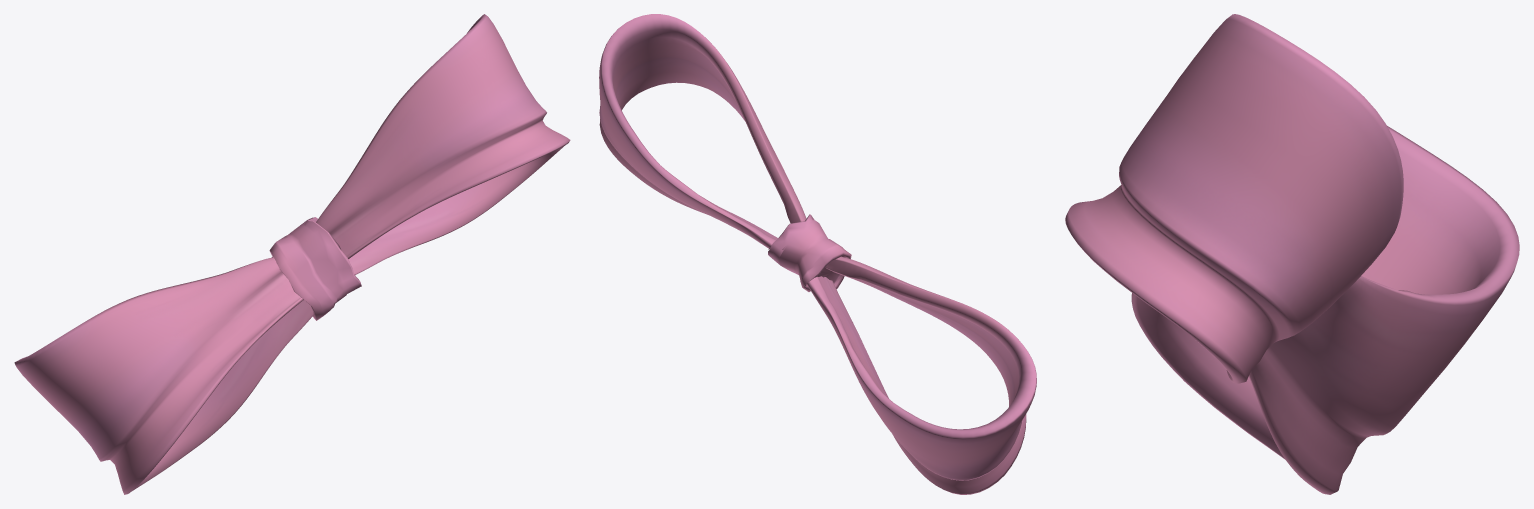
The model's file is hairBowPink.glb.
3 renders of one model, left to right at view 1: azimuth 30°, elevation 25°; view 2: azimuth 150°, elevation 25°; view 3: azimuth 270°, elevation 25°, orthographic. The views are drawn at different scales.
Parts seen in each view (by area): view 1: hariBow_toSend; view 2: hariBow_toSend; view 3: hariBow_toSend.
Part boxes in pixels (box(x1,y1,x2,y2)): hariBow_toSend: box(14, 14, 570, 494); hariBow_toSend: box(599, 14, 1036, 494); hariBow_toSend: box(1065, 14, 1519, 494).
Size of the model in its own units: 0.2466 by 0.1914 by 0.1023.
1 material, 1 textured.
